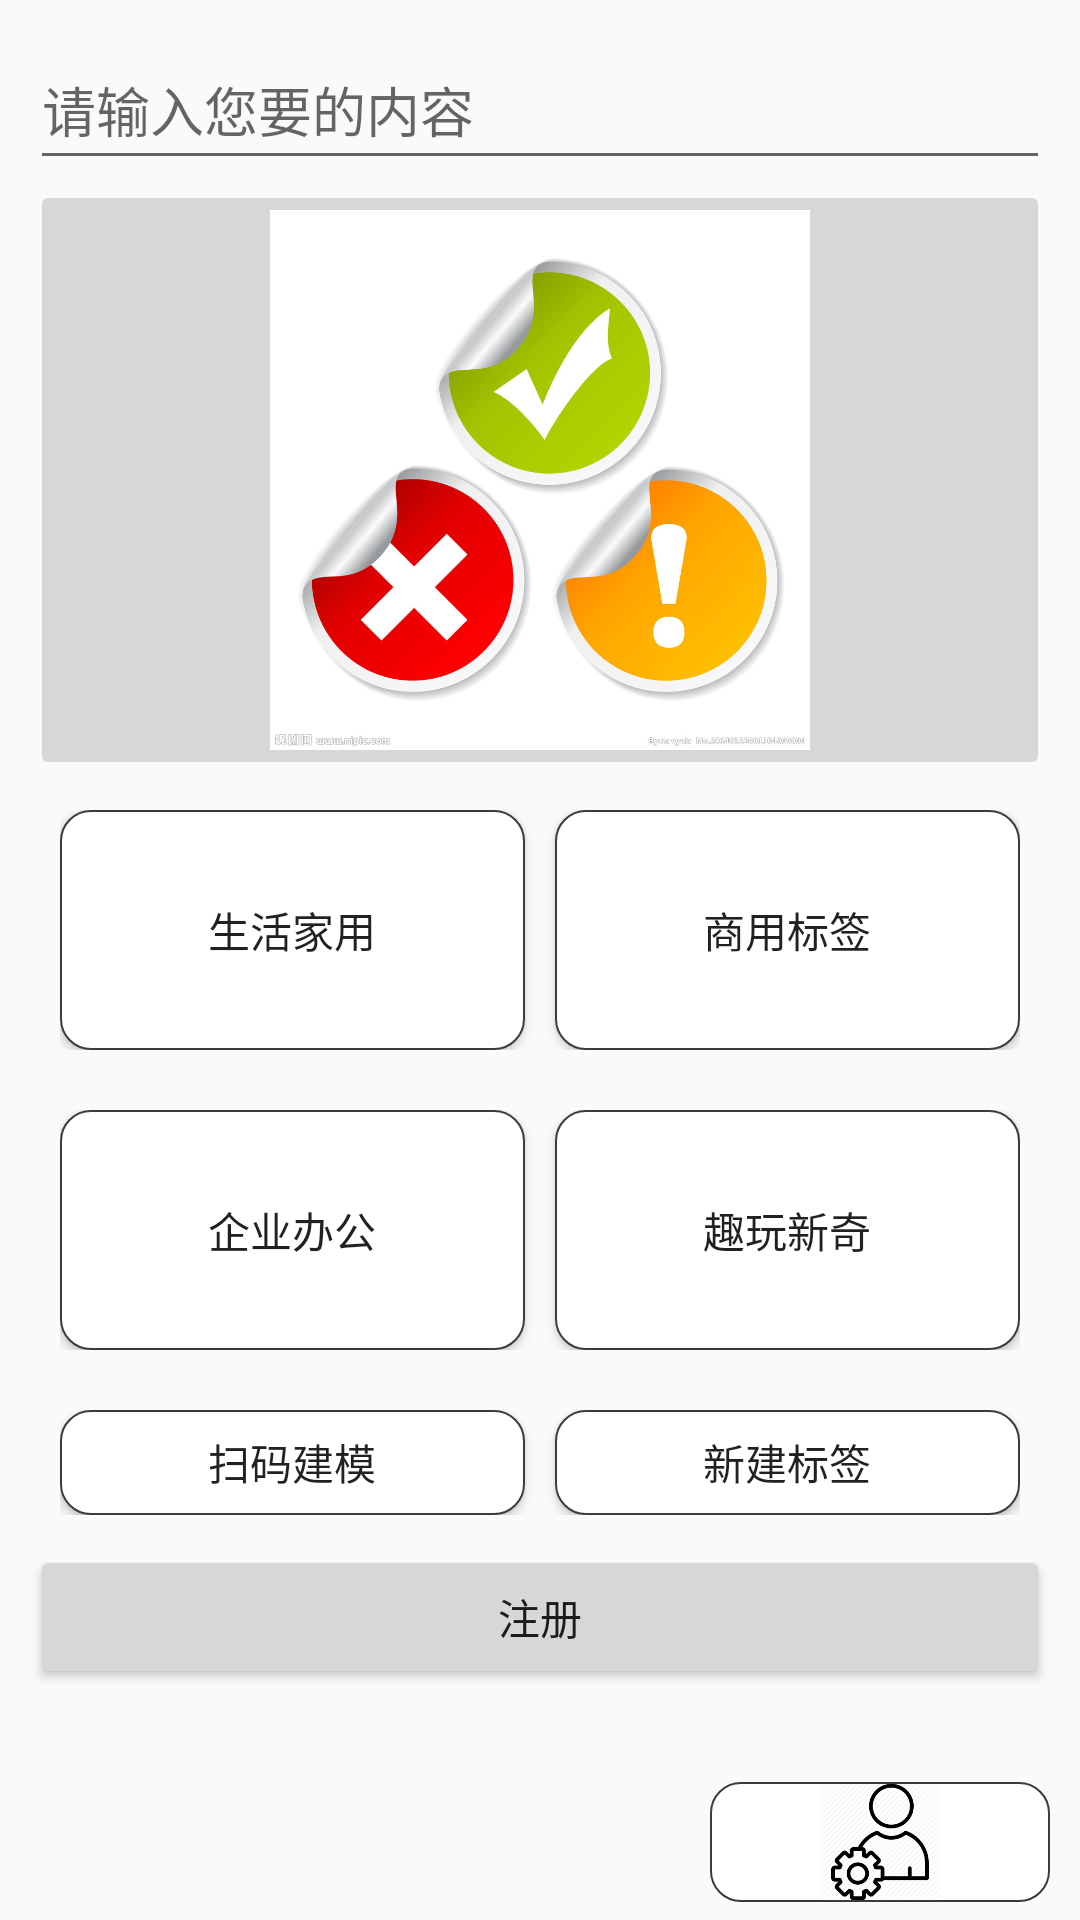

Icons on this 1080x1920 Android screen, each with its box as (x1, y1, x2, y2):
personal: (710, 1782, 1050, 1902)
